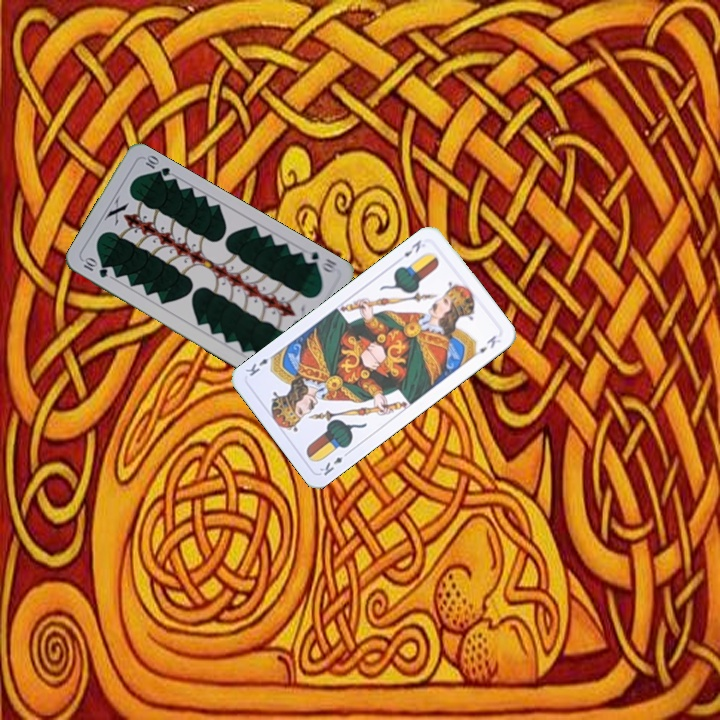EK: (315, 447, 352, 478), (399, 236, 424, 259)
G10: (299, 246, 339, 275), (79, 254, 110, 281)
